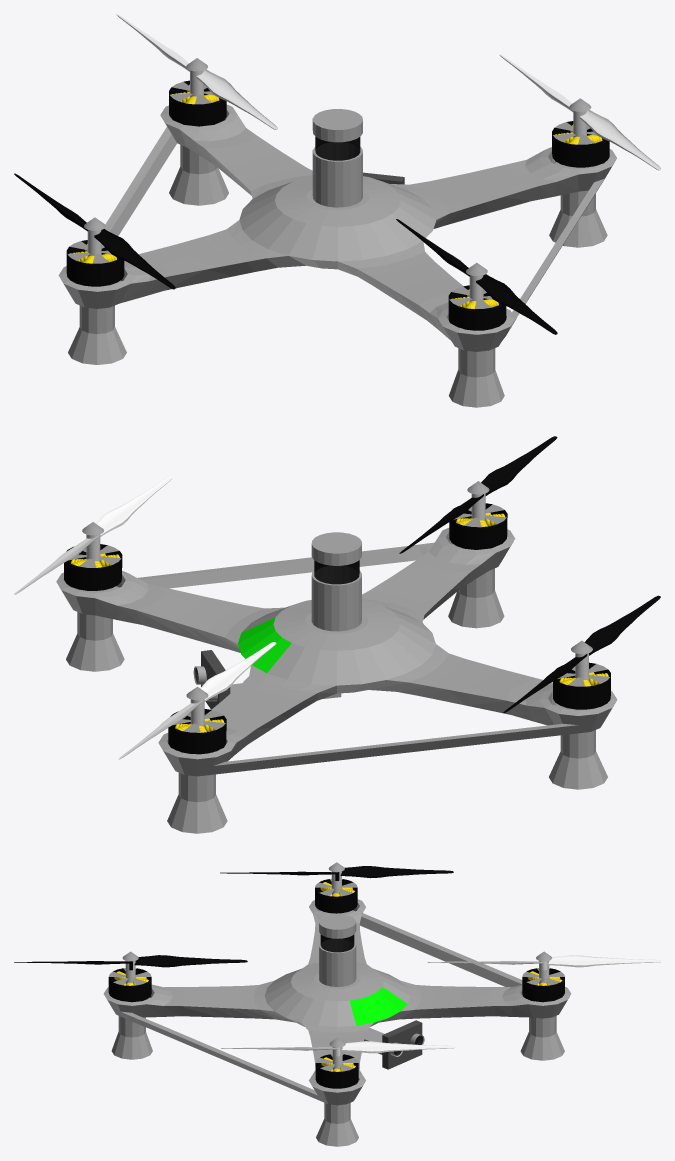
Rendered from uav2_11.fbx.
3 views of the same model, one above another, from view 1: azimuth 30°, elevation 25°; view 2: azimuth 150°, elevation 25°; view 3: azimuth 270°, elevation 25° (orthographic). The views are drawn at different scales.
Parts seen in each view (by area): view 1: uav_batch, pasted__pCylinder8 (×4), propellor (×4), laser_batch, laser_main; view 2: uav_batch, pasted__pCylinder8 (×4), propellor (×4), laser_batch, laser_main, camera_batch; view 3: uav_batch, propellor (×4), pasted__pCylinder8 (×4), laser_batch, camera_batch, laser_main.
Part boxes in pixels (x1,y1,x2,y2): uav_batch: (58, 104, 616, 407); pasted__pCylinder8 (×4): (66, 80, 609, 330); propellor (×4): (14, 14, 660, 334); laser_batch: (312, 109, 362, 207); laser_main: (315, 136, 360, 160); uav_batch: (56, 528, 617, 833); pasted__pCylinder8 (×4): (64, 503, 610, 754); propellor (×4): (14, 436, 660, 759); laser_batch: (311, 532, 361, 631); laser_main: (314, 560, 359, 584); camera_batch: (201, 650, 230, 709); uav_batch: (103, 899, 571, 1146); propellor (×4): (14, 866, 660, 1056); pasted__pCylinder8 (×4): (108, 879, 564, 1088); laser_batch: (319, 914, 356, 986); camera_batch: (382, 1020, 422, 1069); laser_main: (320, 934, 354, 952).
Bounding box in the file's own units: 25.09 × 7.74 × 34.69.
